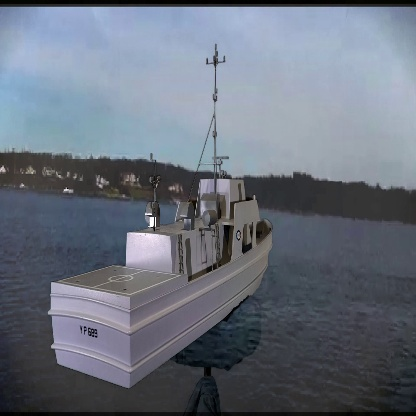YP689: (48, 43, 272, 393)
